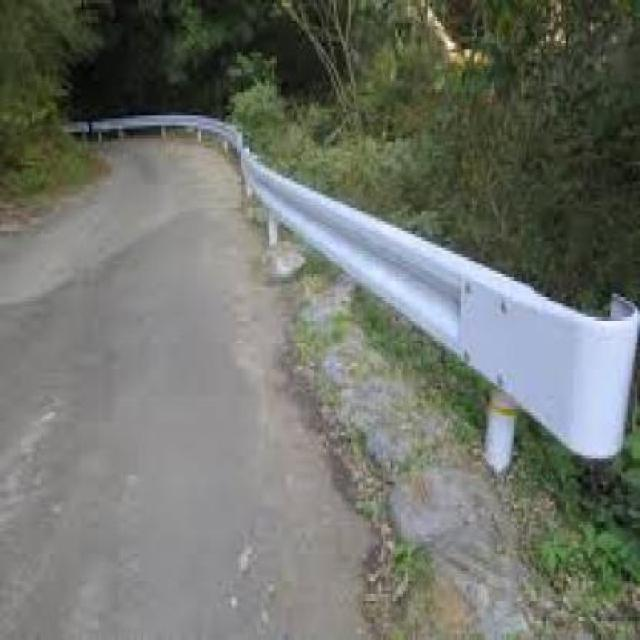Guard rail: (224, 114, 639, 517)
